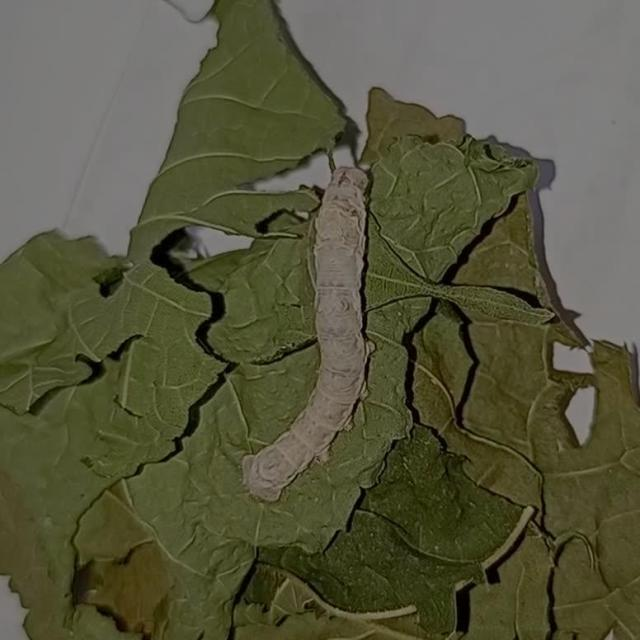Healthy: (233, 151, 404, 516)
